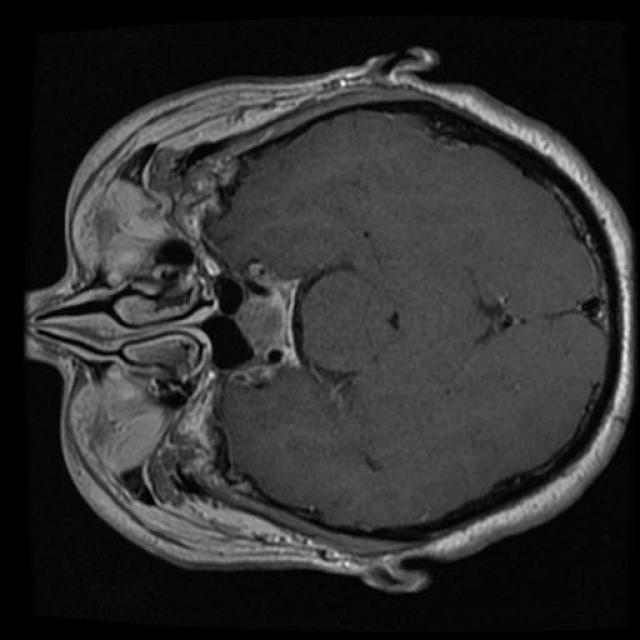Pituitary: (233, 261, 301, 387)
